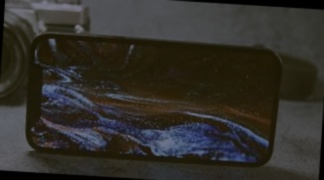iphone: (28, 39, 281, 161)
